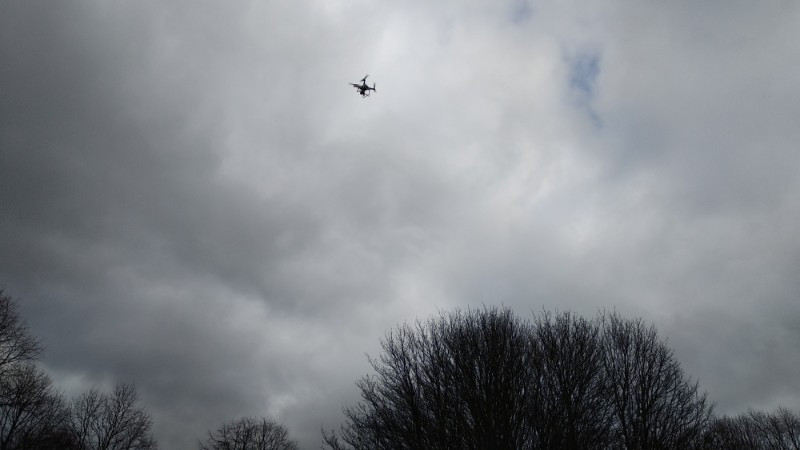drone: (349, 76, 379, 100)
